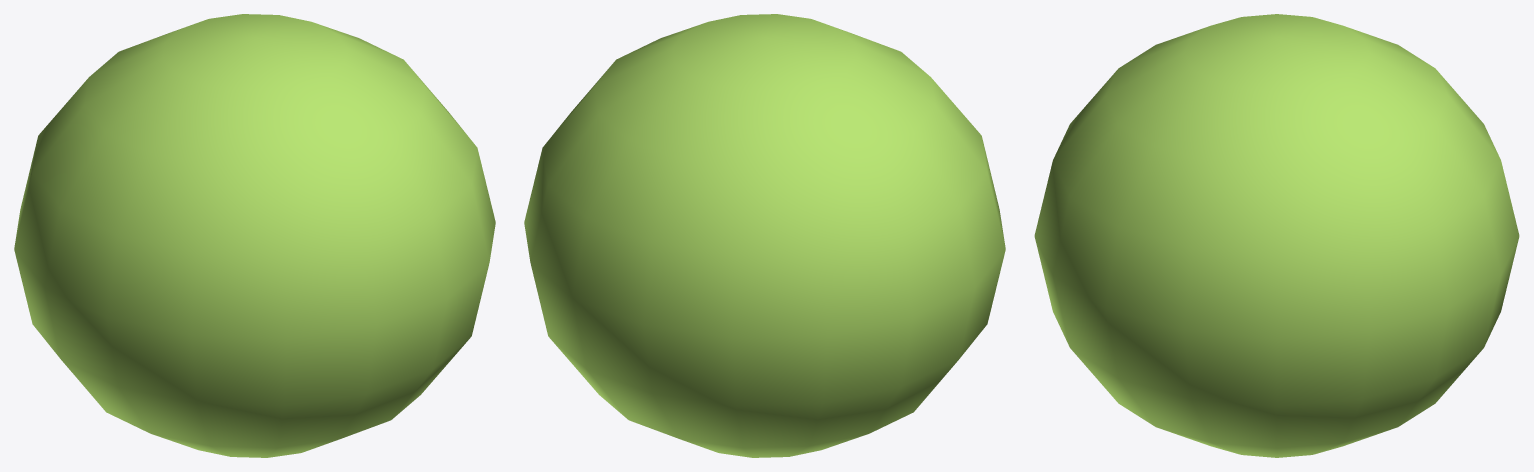
File: lime.fbx
3 views of the same model, side by side, from view 1: azimuth 30°, elevation 25°; view 2: azimuth 150°, elevation 25°; view 3: azimuth 270°, elevation 25° (orthographic).
Parts seen in each view (by area): view 1: lime; view 2: lime; view 3: lime.
Part boxes in pixels (x1=…): lime: x1=14, y1=14, x2=495, y2=457; lime: x1=524, y1=14, x2=1005, y2=457; lime: x1=1034, y1=14, x2=1519, y2=457.
Bounding box in the file's own units: 0.1 × 0.09 × 0.1.
